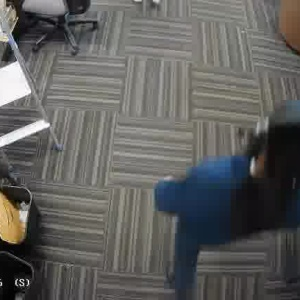person: (162, 96, 300, 294)
